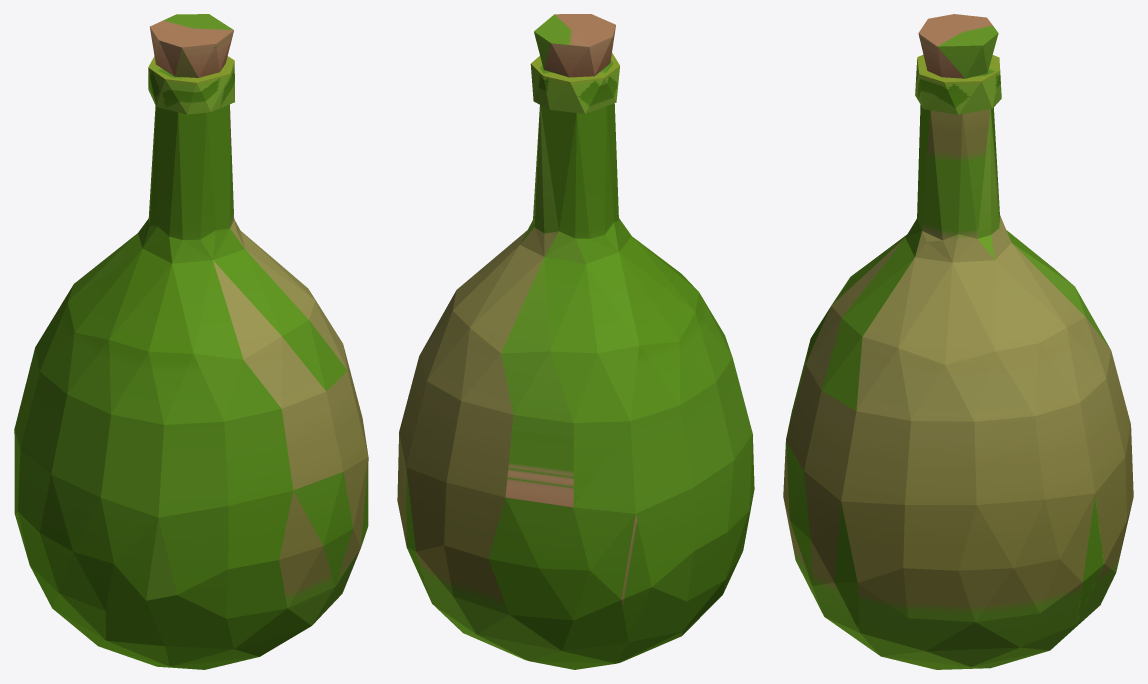
File: SM_Bottle_03.glb
3 renders of one model, left to right at view 1: azimuth 30°, elevation 25°; view 2: azimuth 150°, elevation 25°; view 3: azimuth 270°, elevation 25°, orthographic.
Parts seen in each view (by area): view 1: SM_Bottle_03; view 2: SM_Bottle_03; view 3: SM_Bottle_03.
Part boxes in pixels (x1,y1,x2,y2): SM_Bottle_03: [14, 14, 368, 669]; SM_Bottle_03: [397, 14, 754, 669]; SM_Bottle_03: [783, 14, 1133, 669].
Bounding box in the file's own units: 0.1441 × 0.2781 × 0.1441.
Materials: 1 (1 with a texture image).
